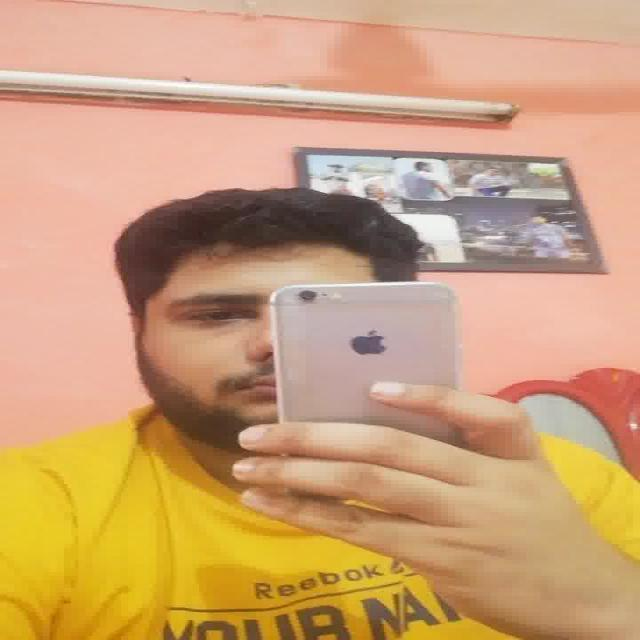Phone: (268, 282, 466, 456)
